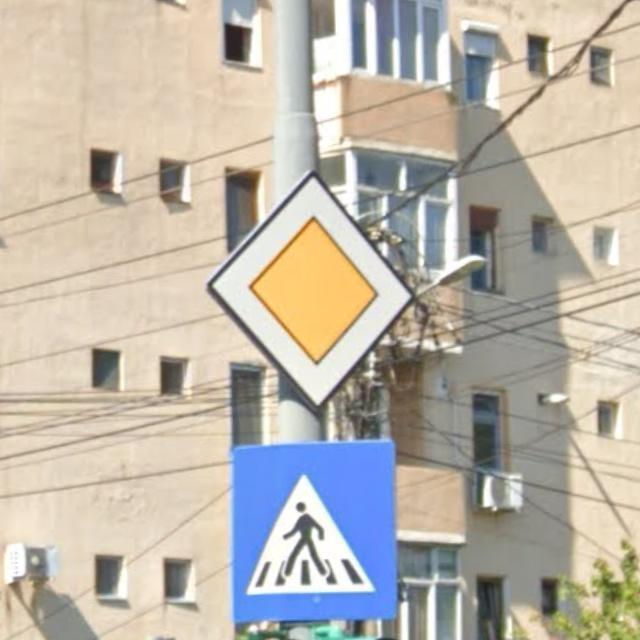info_crosswalk: (228, 443, 398, 624)
